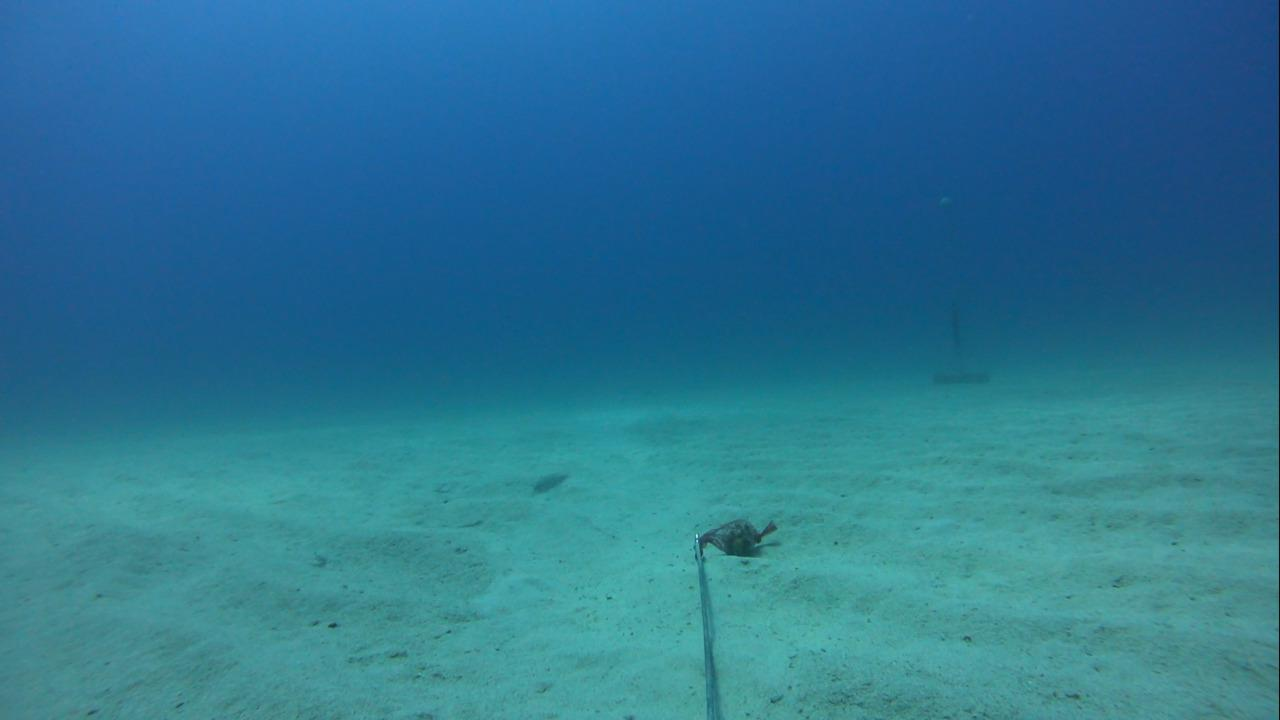raor: (521, 462, 571, 502)
